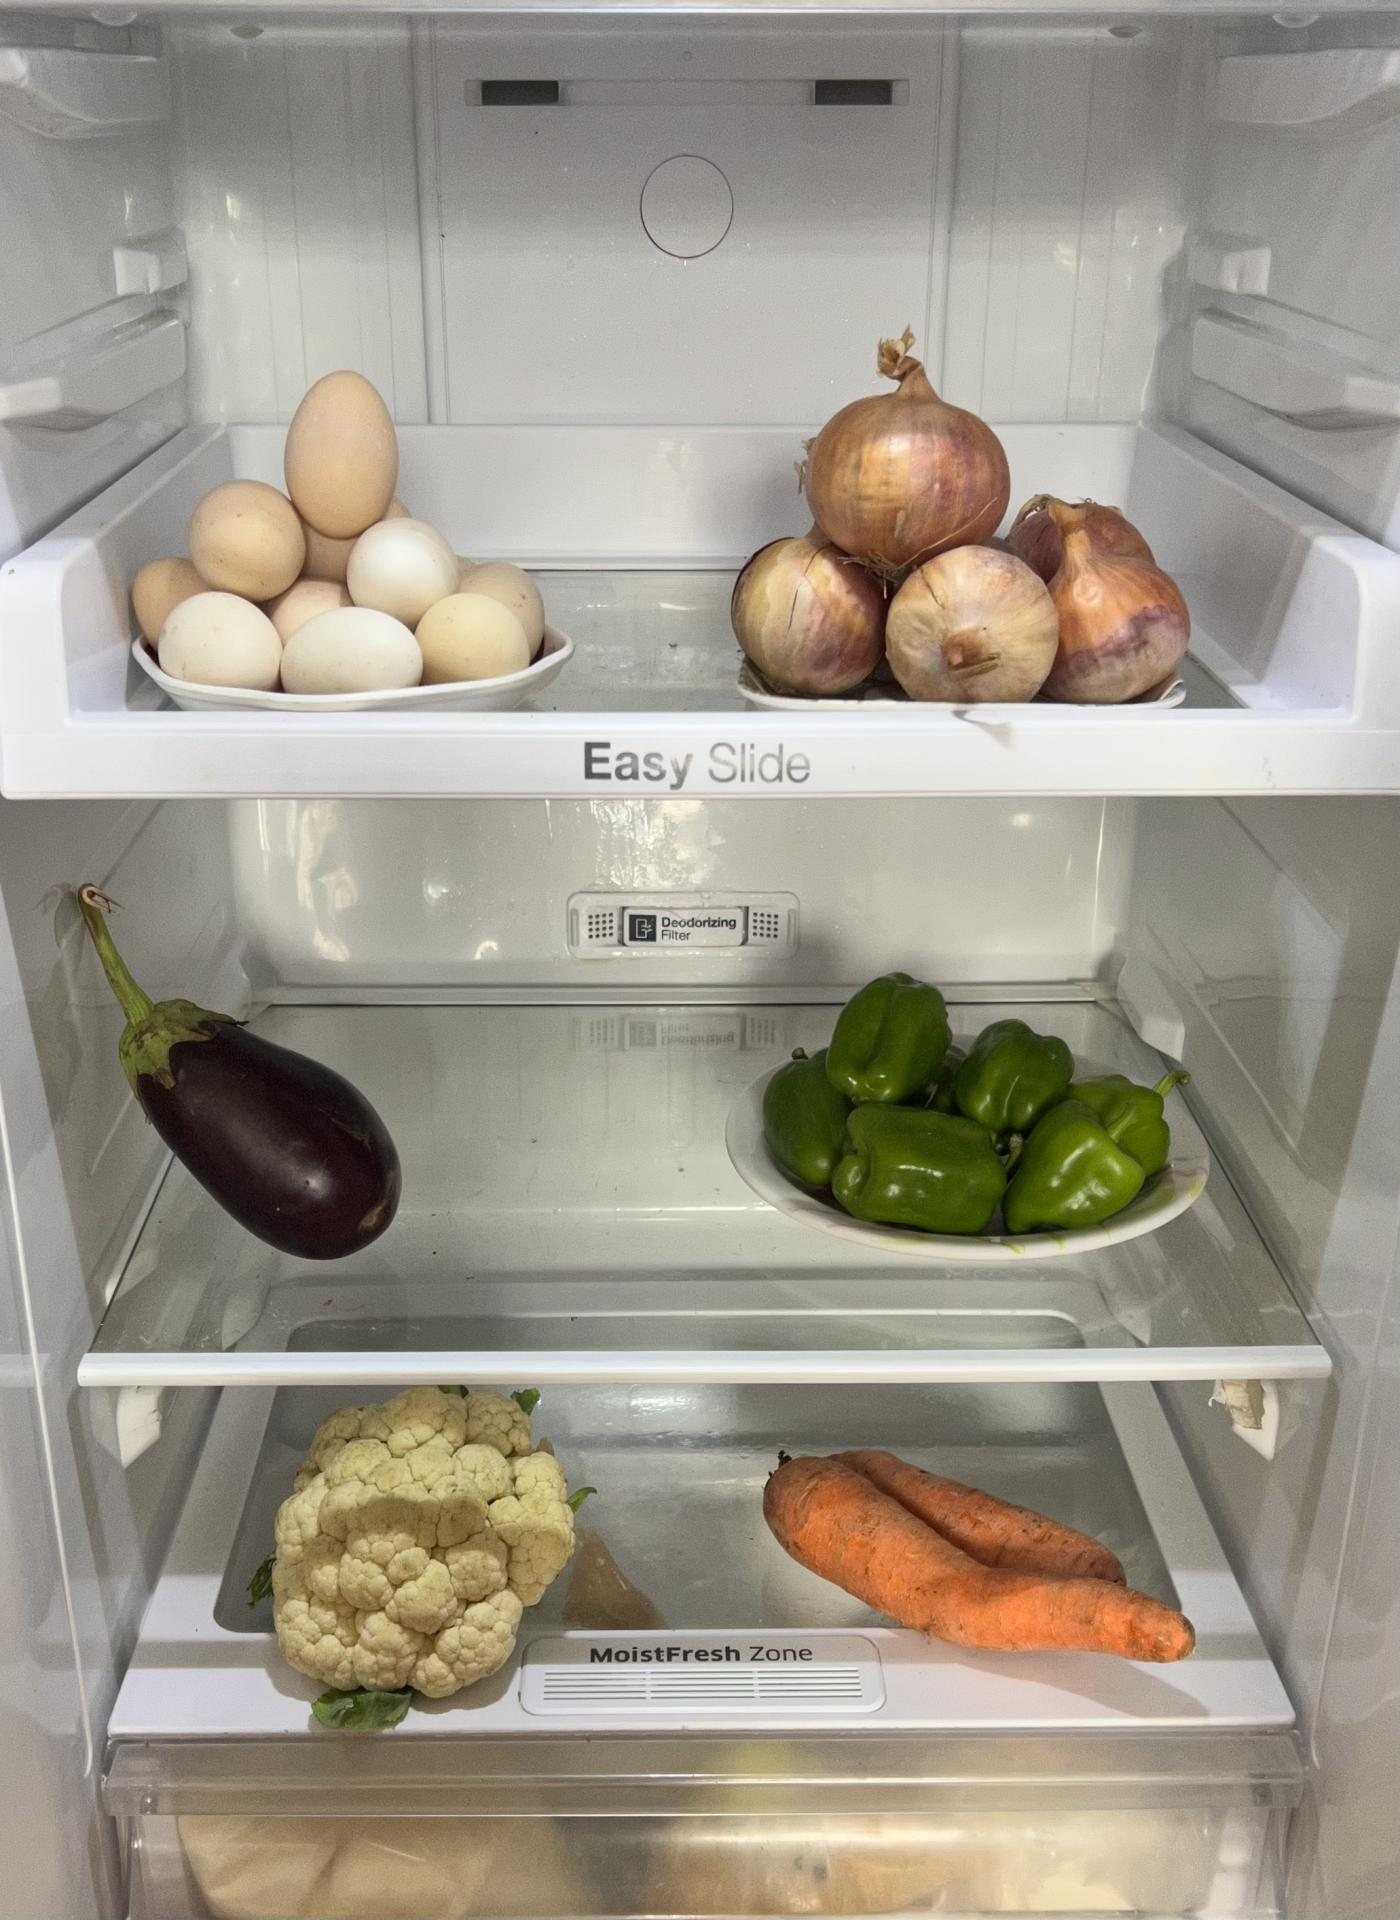capsicum: (740, 961, 1176, 1231)
carrots: (744, 1439, 1230, 1680)
cauliflower: (274, 1383, 571, 1701)
egg: (118, 377, 568, 699)
onion: (723, 377, 1211, 699)
